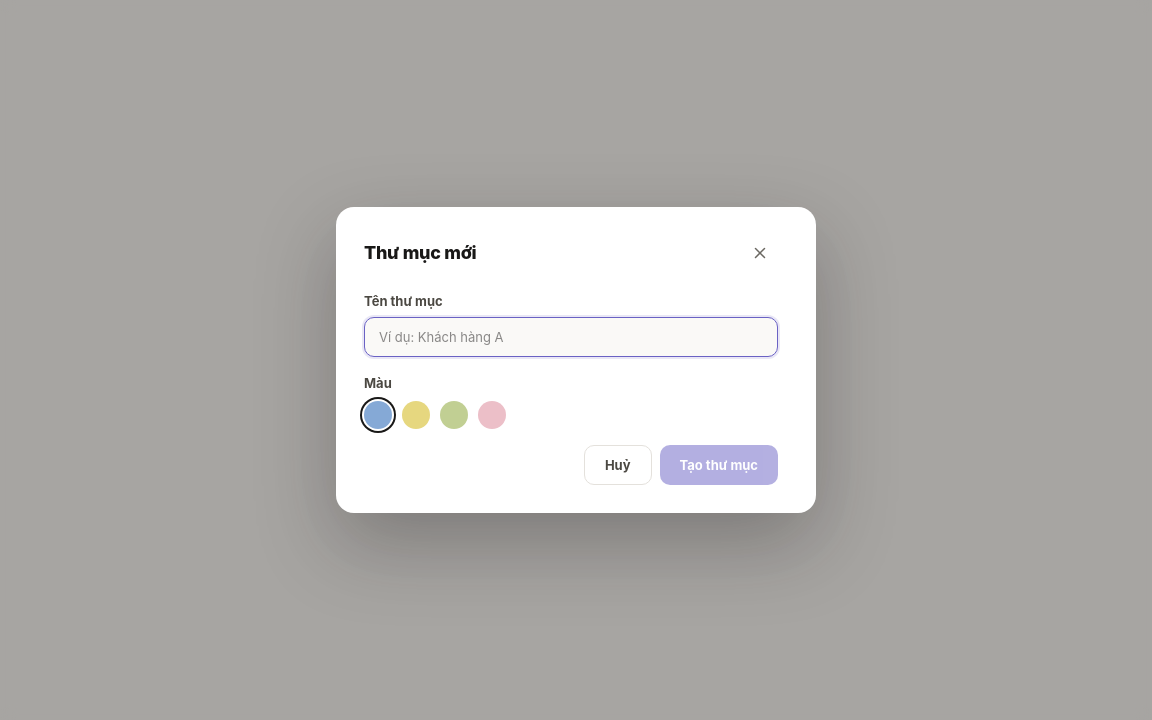
Test: FolderDialogs › lỗi BE hiện trong dialog, không đóng
This screenshot has width=1152, height=720.
Type "X" into the field labelled "Tên thư mục" at (571, 337), box [364,317,778,357]
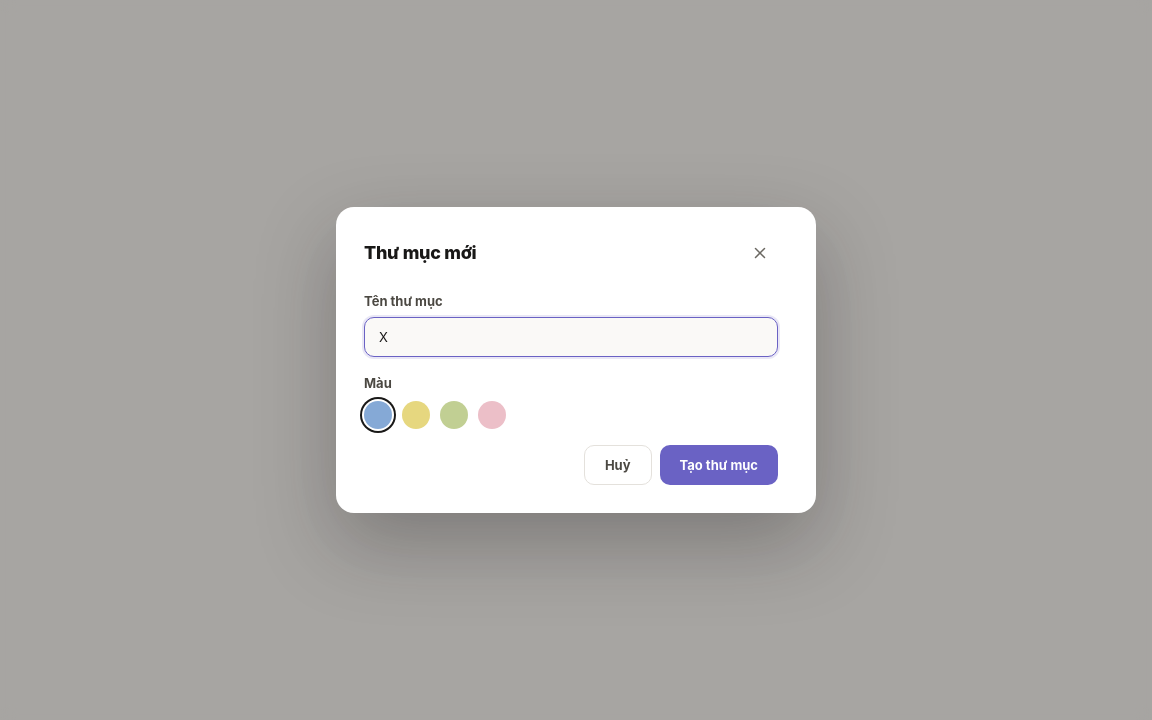
Click the button "Tạo thư mục" at (719, 465), box [660,445,778,485]
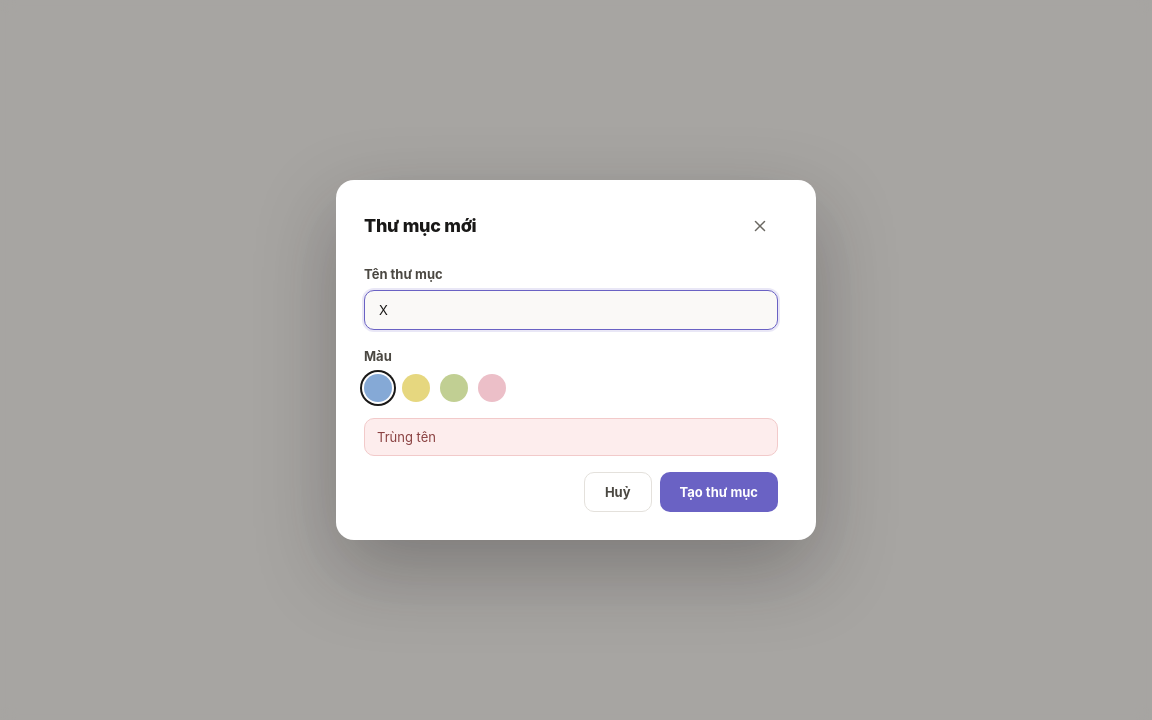
Expected: the message reads "Trùng tên", [377,429,436,445]
